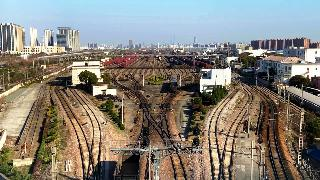train: (170, 76, 177, 92)
